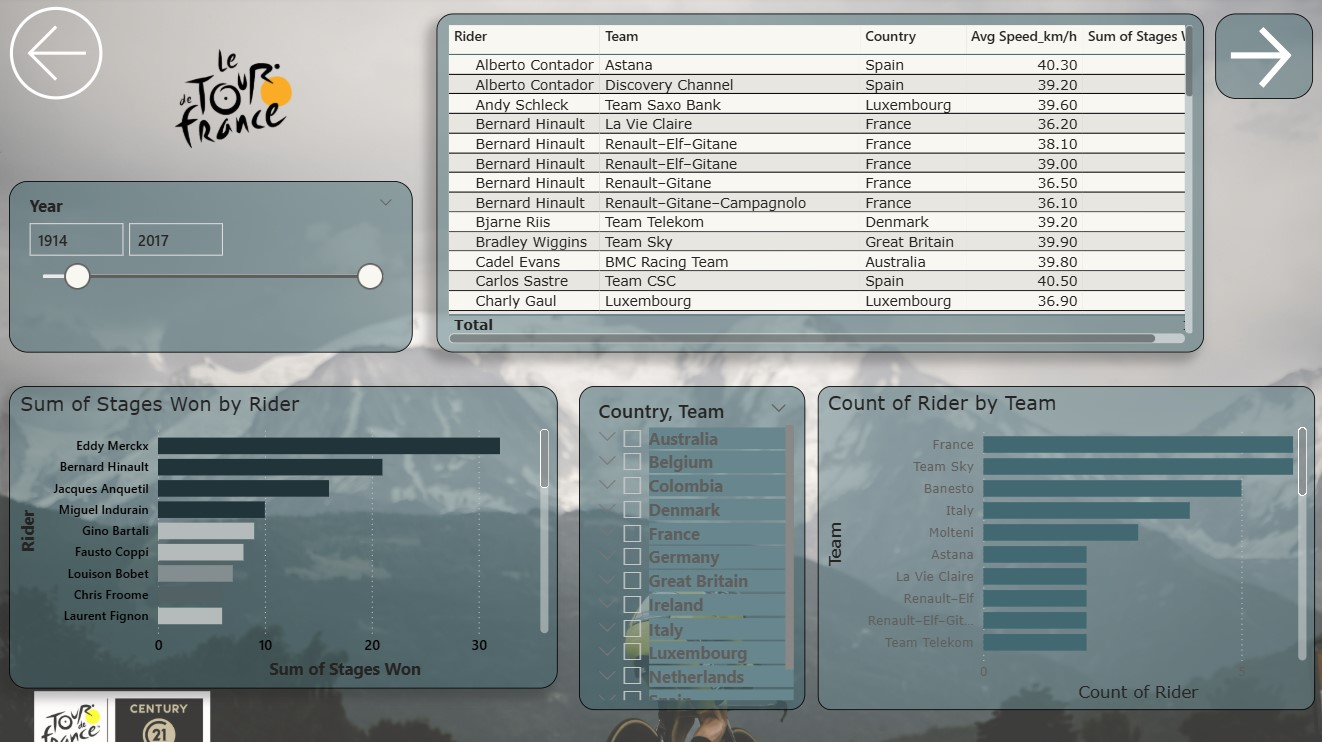

Layout of this report page (visuals, bound fields, positions):
{"tool":"powerbi","page":{"name":"Rider And team analysis","canvas":[1280,720],"ordinal":4},"visuals":[{"type":"tableEx","fields":{"Values":["dim_Winner.Rider","dim_Winner.Team","dim_Winner.Country","dim_Winner.Avg Speed_km/h","Sum(dim_Winner.Stages Won)"]},"box":[421.9,17,740.7,327.3],"z":0},{"type":"barChart","fields":{"Category":["dim_Winner.Rider"],"Y":["Sum(dim_Winner.Stages Won)"]},"box":[9.7,376.4,529.6,292],"z":1000},{"type":"barChart","fields":{"Category":["dim_Winner.Team"],"Y":["CountNonNull(dim_Winner.Rider)"]},"box":[790.2,376.4,480.2,312.5],"z":2000},{"type":"slicer","fields":{"Values":["dim_Winner.Country","dim_Winner.Team"]},"box":[559.8,376.4,218.4,312.5],"z":3000},{"type":"slicer","fields":{"Values":["tdf_stages.Year"]},"box":[9.7,178.6,389.7,165.3],"z":4000},{"type":"image","box":[149.6,29,152,139.9],"z":5000},{"type":"actionButton","box":[1173.6,17,94.6,82.4],"z":6000},{"type":"actionButton","box":[0,0,149.1,110.3],"z":7000}]}

Visuals, with their boxes in screenshot pixels (x1, y1, x2, y2), scaled from the page's 1280x720 canvas onto the 1322x742 screenshot:
tableEx - dim_Winner.Rider x dim_Winner.Team: [x1=436, y1=18, x2=1201, y2=355]
barChart - dim_Winner.Rider x Sum(dim_Winner.Stages Won): [x1=10, y1=388, x2=557, y2=689]
barChart - dim_Winner.Team x CountNonNull(dim_Winner.Rider): [x1=816, y1=388, x2=1312, y2=710]
slicer - dim_Winner.Country x dim_Winner.Team: [x1=578, y1=388, x2=804, y2=710]
slicer - tdf_stages.Year: [x1=10, y1=184, x2=413, y2=354]
image: [x1=155, y1=30, x2=311, y2=174]
actionButton: [x1=1212, y1=18, x2=1310, y2=102]
actionButton: [x1=0, y1=0, x2=154, y2=114]
